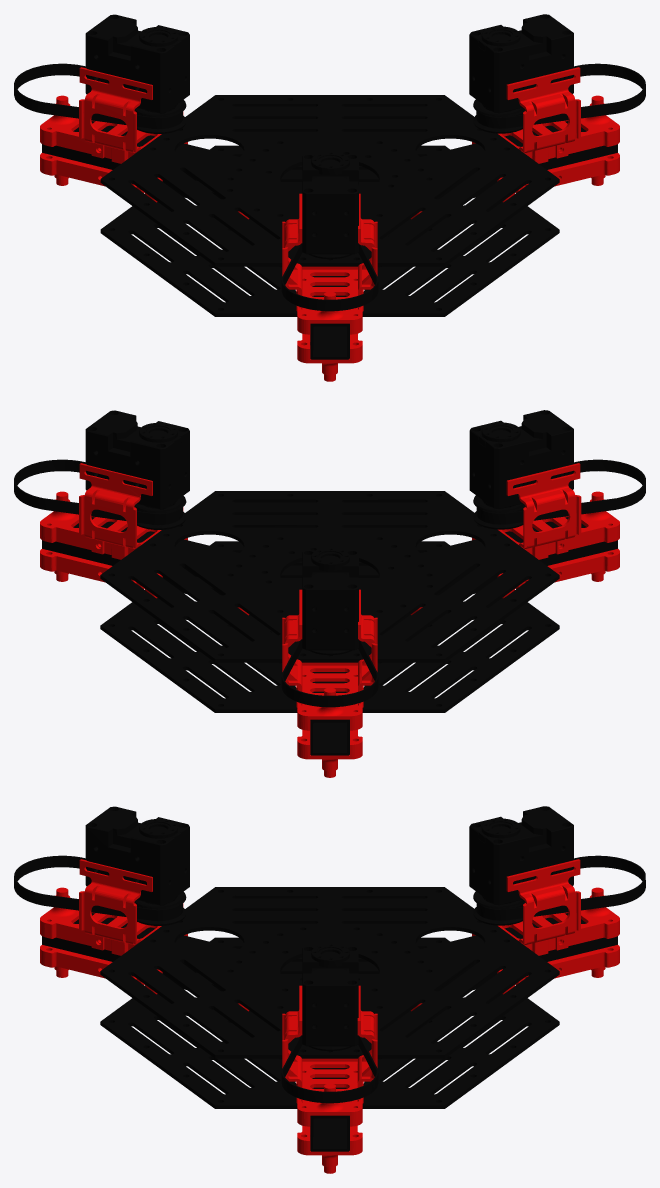
The model's file is center_link.dae.
The picture shows the model from 3 angles, top to bottom: view 1: azimuth 30°, elevation 25°; view 2: azimuth 150°, elevation 25°; view 3: azimuth 270°, elevation 25°; orthographic projection.
Parts seen in each view (by area): view 1: Black, Red; view 2: Black, Red; view 3: Black, Red.
Boxes of the visible parts, bbox=[...] form: Black: bbox=[14, 14, 645, 359]; Red: bbox=[40, 67, 619, 381]; Black: bbox=[14, 410, 645, 755]; Red: bbox=[40, 463, 619, 777]; Black: bbox=[14, 806, 645, 1151]; Red: bbox=[40, 859, 619, 1173].
Bounding box in the file's own units: 0.2819 × 0.318 × 0.0956.
